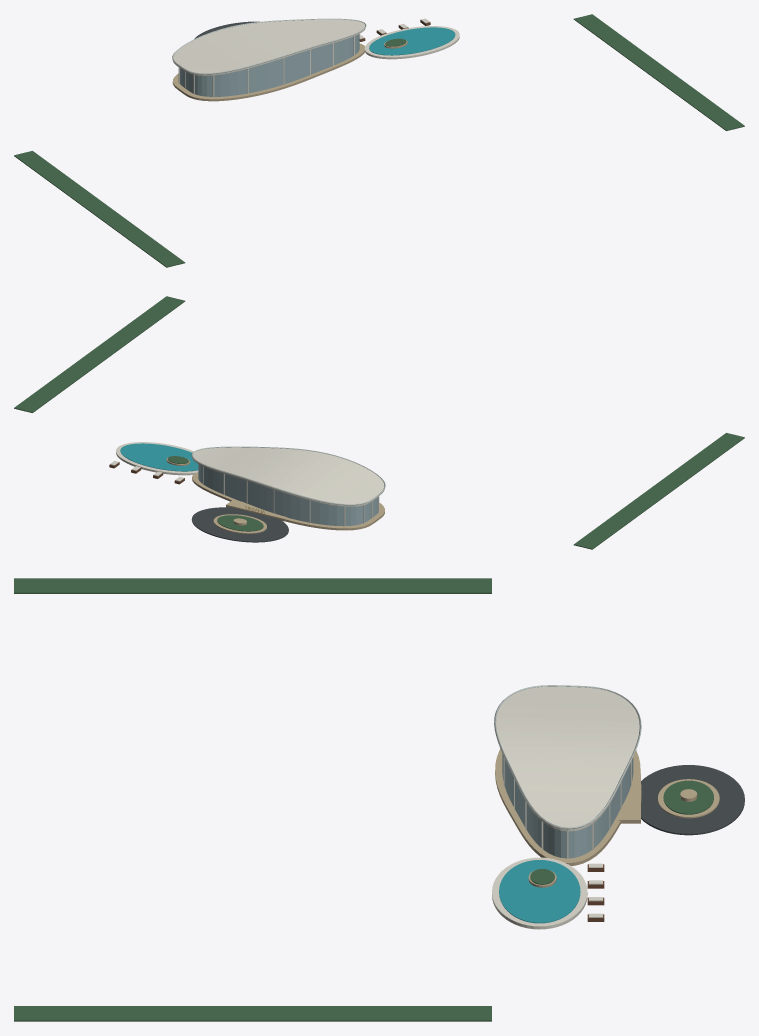
The model's file is KOL_T1_URBANA__Clubhouse.fbx.
3 views of the same model, one above another, from view 1: azimuth 30°, elevation 25°; view 2: azimuth 150°, elevation 25°; view 3: azimuth 270°, elevation 25° (orthographic). The views are drawn at different scales.
Visible parts, largest first — view 1: KOL_T1_URBANA__Clubhouse__KOL_T1_Pearl, KOL_T1_URBANA__Clubhouse__KOL_T1_Leaf, KOL_T1_URBANA__Clubhouse__KOL_T1_GlassLight, KOL_T1_URBANA__Clubhouse__KOL_T1_Water, KOL_T1_URBANA__Clubhouse__KOL_T1_Stone, KOL_T1_URBANA__Clubhouse__KOL_T1_Silver; view 2: KOL_T1_URBANA__Clubhouse__KOL_T1_Pearl, KOL_T1_URBANA__Clubhouse__KOL_T1_Leaf, KOL_T1_URBANA__Clubhouse__KOL_T1_GlassLight, KOL_T1_URBANA__Clubhouse__KOL_T1_Asphalt, KOL_T1_URBANA__Clubhouse__KOL_T1_Stone, KOL_T1_URBANA__Clubhouse__KOL_T1_Water, KOL_T1_URBANA__Clubhouse__KOL_T1_Silver; view 3: KOL_T1_URBANA__Clubhouse__KOL_T1_Pearl, KOL_T1_URBANA__Clubhouse__KOL_T1_Leaf, KOL_T1_URBANA__Clubhouse__KOL_T1_Asphalt, KOL_T1_URBANA__Clubhouse__KOL_T1_Water, KOL_T1_URBANA__Clubhouse__KOL_T1_Stone, KOL_T1_URBANA__Clubhouse__KOL_T1_GlassLight, KOL_T1_URBANA__Clubhouse__KOL_T1_Silver.
Part boxes in pixels (x1,y1,x2,y2): KOL_T1_URBANA__Clubhouse__KOL_T1_Pearl: [173, 18, 459, 97]; KOL_T1_URBANA__Clubhouse__KOL_T1_Leaf: [14, 14, 744, 267]; KOL_T1_URBANA__Clubhouse__KOL_T1_GlassLight: [179, 34, 359, 96]; KOL_T1_URBANA__Clubhouse__KOL_T1_Water: [369, 27, 455, 55]; KOL_T1_URBANA__Clubhouse__KOL_T1_Stone: [172, 40, 407, 101]; KOL_T1_URBANA__Clubhouse__KOL_T1_Silver: [172, 18, 366, 74]; KOL_T1_URBANA__Clubhouse__KOL_T1_Pearl: [110, 442, 384, 526]; KOL_T1_URBANA__Clubhouse__KOL_T1_Leaf: [14, 296, 744, 549]; KOL_T1_URBANA__Clubhouse__KOL_T1_GlassLight: [198, 464, 378, 526]; KOL_T1_URBANA__Clubhouse__KOL_T1_Asphalt: [191, 507, 288, 542]; KOL_T1_URBANA__Clubhouse__KOL_T1_Stone: [166, 457, 384, 533]; KOL_T1_URBANA__Clubhouse__KOL_T1_Water: [120, 443, 198, 471]; KOL_T1_URBANA__Clubhouse__KOL_T1_Silver: [191, 446, 385, 505]; KOL_T1_URBANA__Clubhouse__KOL_T1_Pearl: [492, 686, 639, 929]; KOL_T1_URBANA__Clubhouse__KOL_T1_Leaf: [14, 578, 713, 1021]; KOL_T1_URBANA__Clubhouse__KOL_T1_Asphalt: [641, 765, 744, 835]; KOL_T1_URBANA__Clubhouse__KOL_T1_Water: [499, 860, 580, 923]; KOL_T1_URBANA__Clubhouse__KOL_T1_Stone: [495, 749, 719, 887]; KOL_T1_URBANA__Clubhouse__KOL_T1_GlassLight: [502, 754, 633, 858]; KOL_T1_URBANA__Clubhouse__KOL_T1_Silver: [494, 685, 641, 829].
Size of the model in its own units: 372 by 20.57 by 260.
